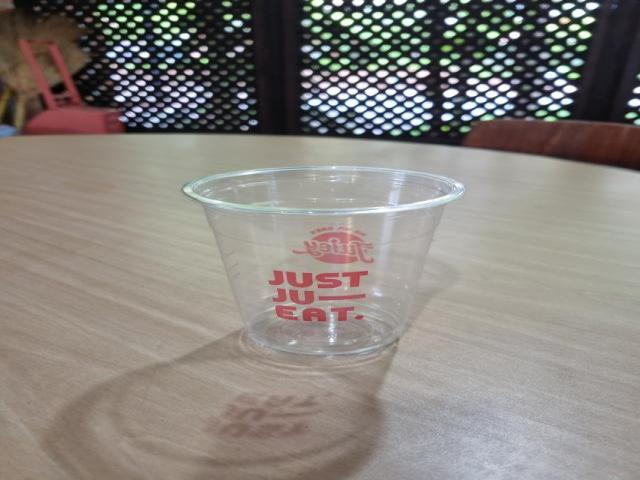cup: (170, 159, 482, 361)
